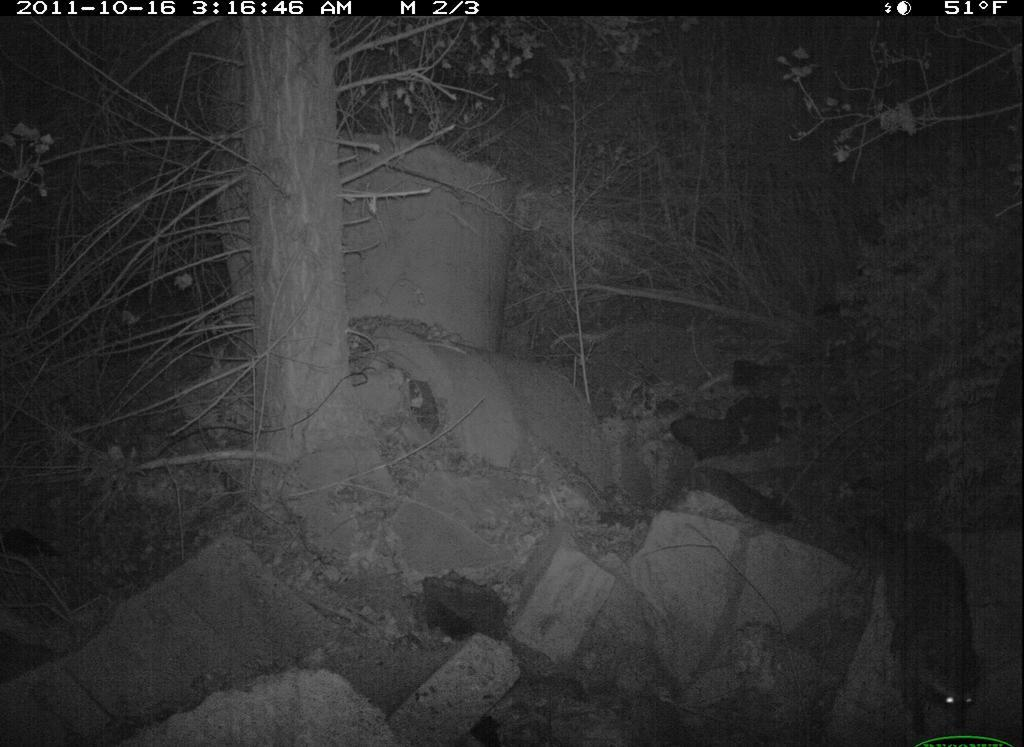raccoon: (856, 509, 994, 747)
